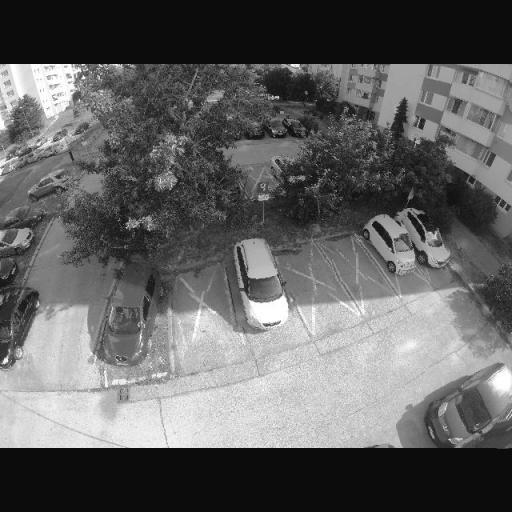busy: (90, 260, 171, 376), (423, 356, 512, 448), (218, 235, 300, 331), (359, 214, 419, 272), (396, 209, 452, 269), (0, 284, 37, 373), (0, 205, 48, 232), (0, 226, 34, 257), (26, 179, 62, 202), (262, 119, 288, 139), (242, 120, 268, 140)
free: (173, 290, 232, 344), (285, 260, 334, 300), (330, 250, 370, 286), (246, 168, 278, 194), (32, 187, 58, 215)
